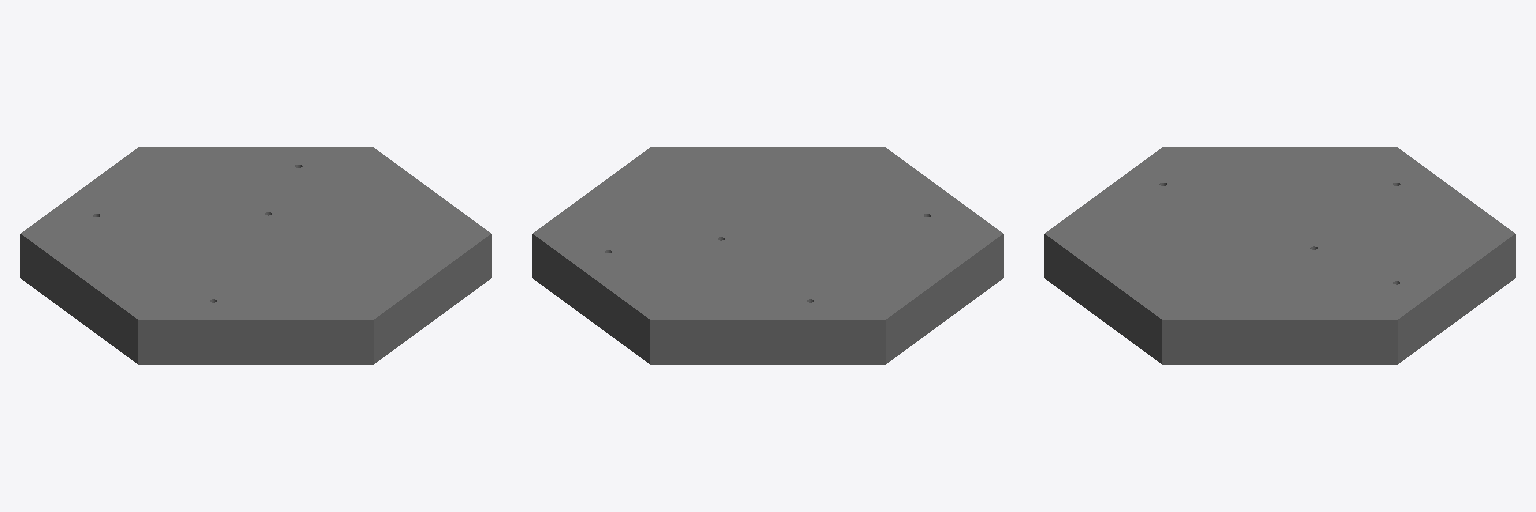
URDF robot description (push_object):
<?xml version="1.0" ?>
<robot name="push_object">
  <link name="link_x">
    <inertial>
      <mass value="0"/>
      <inertia ixx="1.0" ixy="0.0" ixz="0.0" iyy="1.0" iyz="0.0" izz="1.0"/>
    </inertial>
  </link>

  <link name="link_y">
    <inertial>
      <mass value="0"/>
      <inertia ixx="1.0" ixy="0.0" ixz="0.0" iyy="1.0" iyz="0.0" izz="1.0"/>
    </inertial>
  </link>
  
  <link name="link_z">
    <inertial>
      <mass value="0"/>
      <inertia ixx="1.0" ixy="0.0" ixz="0.0" iyy="1.0" iyz="0.0" izz="1.0"/>
    </inertial>
  </link>
  
  <link name="link_yaw">
    <inertial>
      <mass value="0"/>
      <inertia ixx="1.0" ixy="0.0" ixz="0.0" iyy="1.0" iyz="0.0" izz="1.0"/>
    </inertial>
  </link>

  <link name="link_object">
    <contact>
      <rolling_friction value="0.03"/>
      <spinning_friction value="0.03"/>
    </contact>

    <inertial>
      <origin rpy="0 0 0" xyz="0 0 0"/>
       <mass value="0.006350"/>
       <inertia ixx="1" ixy="0" ixz="0" iyy="1" iyz="0" izz="0.983000"/>
    </inertial>
    <visual>
      <origin rpy="0 0 0" xyz="0 0 0.001500"/>
      <geometry>
        <mesh filename="hex.obj" scale="1.0 1.0 1.0"/>      
      </geometry>
      <material name="gray">
        <color rgba="0.5 0.5 0.5 1"/>
        <specular rgb="1 1 1"/>
      </material>
    </visual>
    
    <collision>
      <origin rpy="0 0 0" xyz="-0.0500 -0.0300 -0.0063"/>
      <geometry>
        <sphere radius="0.0065"/>
      </geometry>
    </collision>
        
    <collision>
      <origin rpy="0 0 0" xyz="-0.0500 -0.0200 -0.0063"/>
      <geometry>
        <sphere radius="0.0065"/>
      </geometry>
    </collision>
        
    <collision>
      <origin rpy="0 0 0" xyz="-0.0500 -0.0100 -0.0063"/>
      <geometry>
        <sphere radius="0.0065"/>
      </geometry>
    </collision>
        
    <collision>
      <origin rpy="0 0 0" xyz="-0.0500 -0.0000 -0.0063"/>
      <geometry>
        <sphere radius="0.0065"/>
      </geometry>
    </collision>
        
    <collision>
      <origin rpy="0 0 0" xyz="-0.0500 0.0100 -0.0063"/>
      <geometry>
        <sphere radius="0.0065"/>
      </geometry>
    </collision>
        
    <collision>
      <origin rpy="0 0 0" xyz="-0.0500 0.0200 -0.0063"/>
      <geometry>
        <sphere radius="0.0065"/>
      </geometry>
    </collision>
        
    <collision>
      <origin rpy="0 0 0" xyz="-0.0500 0.0300 -0.0063"/>
      <geometry>
        <sphere radius="0.0065"/>
      </geometry>
    </collision>
        
    <collision>
      <origin rpy="0 0 0" xyz="-0.0400 -0.0300 -0.0063"/>
      <geometry>
        <sphere radius="0.0065"/>
      </geometry>
    </collision>
        
    <collision>
      <origin rpy="0 0 0" xyz="-0.0400 -0.0200 -0.0063"/>
      <geometry>
        <sphere radius="0.0065"/>
      </geometry>
    </collision>
        
    <collision>
      <origin rpy="0 0 0" xyz="-0.0400 -0.0100 -0.0063"/>
      <geometry>
        <sphere radius="0.0065"/>
      </geometry>
    </collision>
        
    <collision>
      <origin rpy="0 0 0" xyz="-0.0400 -0.0000 -0.0063"/>
      <geometry>
        <sphere radius="0.0065"/>
      </geometry>
    </collision>
        
    <collision>
      <origin rpy="0 0 0" xyz="-0.0400 0.0100 -0.0063"/>
      <geometry>
        <sphere radius="0.0065"/>
      </geometry>
    </collision>
        
    <collision>
      <origin rpy="0 0 0" xyz="-0.0400 0.0200 -0.0063"/>
      <geometry>
        <sphere radius="0.0065"/>
      </geometry>
    </collision>
        
    <collision>
      <origin rpy="0 0 0" xyz="-0.0400 0.0300 -0.0063"/>
      <geometry>
        <sphere radius="0.0065"/>
      </geometry>
    </collision>
        
    <collision>
      <origin rpy="0 0 0" xyz="-0.0300 -0.0400 -0.0063"/>
      <geometry>
        <sphere radius="0.0065"/>
      </geometry>
    </collision>
        
    <collision>
      <origin rpy="0 0 0" xyz="-0.0300 -0.0300 -0.0063"/>
      <geometry>
        <sphere radius="0.0065"/>
      </geometry>
    </collision>
        
    <collision>
      <origin rpy="0 0 0" xyz="-0.0300 -0.0200 -0.0063"/>
      <geometry>
        <sphere radius="0.0065"/>
      </geometry>
    </collision>
        
    <collision>
      <origin rpy="0 0 0" xyz="-0.0300 -0.0100 -0.0063"/>
      <geometry>
        <sphere radius="0.0065"/>
      </geometry>
    </collision>
        
    <collision>
      <origin rpy="0 0 0" xyz="-0.0300 -0.0000 -0.0063"/>
      <geometry>
        <sphere radius="0.0065"/>
      </geometry>
    </collision>
        
    <collision>
      <origin rpy="0 0 0" xyz="-0.0300 0.0100 -0.0063"/>
      <geometry>
        <sphere radius="0.0065"/>
      </geometry>
    </collision>
        
    <collision>
      <origin rpy="0 0 0" xyz="-0.0300 0.0200 -0.0063"/>
      <geometry>
        <sphere radius="0.0065"/>
      </geometry>
    </collision>
        
    <collision>
      <origin rpy="0 0 0" xyz="-0.0300 0.0300 -0.0063"/>
      <geometry>
        <sphere radius="0.0065"/>
      </geometry>
    </collision>
        
    <collision>
      <origin rpy="0 0 0" xyz="-0.0300 0.0400 -0.0063"/>
      <geometry>
        <sphere radius="0.0065"/>
      </geometry>
    </collision>
        
    <collision>
      <origin rpy="0 0 0" xyz="-0.0200 -0.0400 -0.0063"/>
      <geometry>
        <sphere radius="0.0065"/>
      </geometry>
    </collision>
        
    <collision>
      <origin rpy="0 0 0" xyz="-0.0200 -0.0300 -0.0063"/>
      <geometry>
        <sphere radius="0.0065"/>
      </geometry>
    </collision>
        
    <collision>
      <origin rpy="0 0 0" xyz="-0.0200 -0.0200 -0.0063"/>
      <geometry>
        <sphere radius="0.0065"/>
      </geometry>
    </collision>
        
    <collision>
      <origin rpy="0 0 0" xyz="-0.0200 -0.0100 -0.0063"/>
      <geometry>
        <sphere radius="0.0065"/>
      </geometry>
    </collision>
        
    <collision>
      <origin rpy="0 0 0" xyz="-0.0200 -0.0000 -0.0063"/>
      <geometry>
        <sphere radius="0.0065"/>
      </geometry>
    </collision>
        
    <collision>
      <origin rpy="0 0 0" xyz="-0.0200 0.0100 -0.0063"/>
      <geometry>
        <sphere radius="0.0065"/>
      </geometry>
    </collision>
        
    <collision>
      <origin rpy="0 0 0" xyz="-0.0200 0.0200 -0.0063"/>
      <geometry>
        <sphere radius="0.0065"/>
      </geometry>
    </collision>
        
    <collision>
      <origin rpy="0 0 0" xyz="-0.0200 0.0300 -0.0063"/>
      <geometry>
        <sphere radius="0.0065"/>
      </geometry>
    </collision>
        
    <collision>
      <origin rpy="0 0 0" xyz="-0.0200 0.0400 -0.0063"/>
      <geometry>
        <sphere radius="0.0065"/>
      </geometry>
    </collision>
        
    <collision>
      <origin rpy="0 0 0" xyz="-0.0100 -0.0500 -0.0063"/>
      <geometry>
        <sphere radius="0.0065"/>
      </geometry>
    </collision>
        
    <collision>
      <origin rpy="0 0 0" xyz="-0.0100 -0.0400 -0.0063"/>
      <geometry>
        <sphere radius="0.0065"/>
      </geometry>
    </collision>
        
    <collision>
      <origin rpy="0 0 0" xyz="-0.0100 -0.0300 -0.0063"/>
      <geometry>
        <sphere radius="0.0065"/>
      </geometry>
    </collision>
        
    <collision>
      <origin rpy="0 0 0" xyz="-0.0100 -0.0200 -0.0063"/>
      <geometry>
        <sphere radius="0.0065"/>
      </geometry>
    </collision>
        
    <collision>
      <origin rpy="0 0 0" xyz="-0.0100 -0.0100 -0.0063"/>
      <geometry>
        <sphere radius="0.0065"/>
      </geometry>
    </collision>
        
    <collision>
      <origin rpy="0 0 0" xyz="-0.0100 -0.0000 -0.0063"/>
      <geometry>
        <sphere radius="0.0065"/>
      </geometry>
    </collision>
        
    <collision>
      <origin rpy="0 0 0" xyz="-0.0100 0.0100 -0.0063"/>
      <geometry>
        <sphere radius="0.0065"/>
      </geometry>
    </collision>
        
    <collision>
      <origin rpy="0 0 0" xyz="-0.0100 0.0200 -0.0063"/>
      <geometry>
        <sphere radius="0.0065"/>
      </geometry>
    </collision>
        
    <collision>
      <origin rpy="0 0 0" xyz="-0.0100 0.0300 -0.0063"/>
      <geometry>
        <sphere radius="0.0065"/>
      </geometry>
    </collision>
        
    <collision>
      <origin rpy="0 0 0" xyz="-0.0100 0.0400 -0.0063"/>
      <geometry>
        <sphere radius="0.0065"/>
      </geometry>
    </collision>
        
    <collision>
      <origin rpy="0 0 0" xyz="-0.0100 0.0500 -0.0063"/>
      <geometry>
        <sphere radius="0.0065"/>
      </geometry>
    </collision>
        
    <collision>
      <origin rpy="0 0 0" xyz="0.0000 -0.0600 -0.0063"/>
      <geometry>
        <sphere radius="0.0065"/>
      </geometry>
    </collision>
        
    <collision>
      <origin rpy="0 0 0" xyz="0.0000 -0.0500 -0.0063"/>
      <geometry>
        <sphere radius="0.0065"/>
      </geometry>
    </collision>
        
    <collision>
      <origin rpy="0 0 0" xyz="0.0000 -0.0400 -0.0063"/>
      <geometry>
        <sphere radius="0.0065"/>
      </geometry>
    </collision>
        
    <collision>
      <origin rpy="0 0 0" xyz="0.0000 -0.0300 -0.0063"/>
      <geometry>
        <sphere radius="0.0065"/>
      </geometry>
    </collision>
        
    <collision>
      <origin rpy="0 0 0" xyz="0.0000 -0.0200 -0.0063"/>
      <geometry>
        <sphere radius="0.0065"/>
      </geometry>
    </collision>
        
    <collision>
      <origin rpy="0 0 0" xyz="0.0000 -0.0100 -0.0063"/>
      <geometry>
        <sphere radius="0.0065"/>
      </geometry>
    </collision>
        
    <collision>
      <origin rpy="0 0 0" xyz="0.0000 -0.0000 -0.0063"/>
      <geometry>
        <sphere radius="0.0065"/>
      </geometry>
    </collision>
        
    <collision>
      <origin rpy="0 0 0" xyz="0.0000 0.0100 -0.0063"/>
      <geometry>
        <sphere radius="0.0065"/>
      </geometry>
    </collision>
        
    <collision>
      <origin rpy="0 0 0" xyz="0.0000 0.0200 -0.0063"/>
      <geometry>
        <sphere radius="0.0065"/>
      </geometry>
    </collision>
        
    <collision>
      <origin rpy="0 0 0" xyz="0.0000 0.0300 -0.0063"/>
      <geometry>
        <sphere radius="0.0065"/>
      </geometry>
    </collision>
        
    <collision>
      <origin rpy="0 0 0" xyz="0.0000 0.0400 -0.0063"/>
      <geometry>
        <sphere radius="0.0065"/>
      </geometry>
    </collision>
        
    <collision>
      <origin rpy="0 0 0" xyz="0.0000 0.0500 -0.0063"/>
      <geometry>
        <sphere radius="0.0065"/>
      </geometry>
    </collision>
        
    <collision>
      <origin rpy="0 0 0" xyz="0.0000 0.0600 -0.0063"/>
      <geometry>
        <sphere radius="0.0065"/>
      </geometry>
    </collision>
        
    <collision>
      <origin rpy="0 0 0" xyz="0.0100 -0.0500 -0.0063"/>
      <geometry>
        <sphere radius="0.0065"/>
      </geometry>
    </collision>
        
    <collision>
      <origin rpy="0 0 0" xyz="0.0100 -0.0400 -0.0063"/>
      <geometry>
        <sphere radius="0.0065"/>
      </geometry>
    </collision>
        
    <collision>
      <origin rpy="0 0 0" xyz="0.0100 -0.0300 -0.0063"/>
      <geometry>
        <sphere radius="0.0065"/>
      </geometry>
    </collision>
        
    <collision>
      <origin rpy="0 0 0" xyz="0.0100 -0.0200 -0.0063"/>
      <geometry>
        <sphere radius="0.0065"/>
      </geometry>
    </collision>
        
    <collision>
      <origin rpy="0 0 0" xyz="0.0100 -0.0100 -0.0063"/>
      <geometry>
        <sphere radius="0.0065"/>
      </geometry>
    </collision>
        
    <collision>
      <origin rpy="0 0 0" xyz="0.0100 -0.0000 -0.0063"/>
      <geometry>
        <sphere radius="0.0065"/>
      </geometry>
    </collision>
        
    <collision>
      <origin rpy="0 0 0" xyz="0.0100 0.0100 -0.0063"/>
      <geometry>
        <sphere radius="0.0065"/>
      </geometry>
    </collision>
        
    <collision>
      <origin rpy="0 0 0" xyz="0.0100 0.0200 -0.0063"/>
      <geometry>
        <sphere radius="0.0065"/>
      </geometry>
    </collision>
        
    <collision>
      <origin rpy="0 0 0" xyz="0.0100 0.0300 -0.0063"/>
      <geometry>
        <sphere radius="0.0065"/>
      </geometry>
    </collision>
        
    <collision>
      <origin rpy="0 0 0" xyz="0.0100 0.0400 -0.0063"/>
      <geometry>
        <sphere radius="0.0065"/>
      </geometry>
    </collision>
        
    <collision>
      <origin rpy="0 0 0" xyz="0.0100 0.0500 -0.0063"/>
      <geometry>
        <sphere radius="0.0065"/>
      </geometry>
    </collision>
        
    <collision>
      <origin rpy="0 0 0" xyz="0.0200 -0.0400 -0.0063"/>
      <geometry>
        <sphere radius="0.0065"/>
      </geometry>
    </collision>
        
    <collision>
      <origin rpy="0 0 0" xyz="0.0200 -0.0300 -0.0063"/>
      <geometry>
        <sphere radius="0.0065"/>
      </geometry>
    </collision>
        
    <collision>
      <origin rpy="0 0 0" xyz="0.0200 -0.0200 -0.0063"/>
      <geometry>
        <sphere radius="0.0065"/>
      </geometry>
    </collision>
        
    <collision>
      <origin rpy="0 0 0" xyz="0.0200 -0.0100 -0.0063"/>
      <geometry>
        <sphere radius="0.0065"/>
      </geometry>
    </collision>
        
    <collision>
      <origin rpy="0 0 0" xyz="0.0200 -0.0000 -0.0063"/>
      <geometry>
        <sphere radius="0.0065"/>
      </geometry>
    </collision>
        
    <collision>
      <origin rpy="0 0 0" xyz="0.0200 0.0100 -0.0063"/>
      <geometry>
        <sphere radius="0.0065"/>
      </geometry>
    </collision>
        
    <collision>
      <origin rpy="0 0 0" xyz="0.0200 0.0200 -0.0063"/>
      <geometry>
        <sphere radius="0.0065"/>
      </geometry>
    </collision>
        
    <collision>
      <origin rpy="0 0 0" xyz="0.0200 0.0300 -0.0063"/>
      <geometry>
        <sphere radius="0.0065"/>
      </geometry>
    </collision>
        
    <collision>
      <origin rpy="0 0 0" xyz="0.0200 0.0400 -0.0063"/>
      <geometry>
        <sphere radius="0.0065"/>
      </geometry>
    </collision>
        
    <collision>
      <origin rpy="0 0 0" xyz="0.0300 -0.0400 -0.0063"/>
      <geometry>
        <sphere radius="0.0065"/>
      </geometry>
    </collision>
        
    <collision>
      <origin rpy="0 0 0" xyz="0.0300 -0.0300 -0.0063"/>
      <geometry>
        <sphere radius="0.0065"/>
      </geometry>
    </collision>
        
    <collision>
      <origin rpy="0 0 0" xyz="0.0300 -0.0200 -0.0063"/>
      <geometry>
        <sphere radius="0.0065"/>
      </geometry>
    </collision>
        
    <collision>
      <origin rpy="0 0 0" xyz="0.0300 -0.0100 -0.0063"/>
      <geometry>
        <sphere radius="0.0065"/>
      </geometry>
    </collision>
        
    <collision>
      <origin rpy="0 0 0" xyz="0.0300 -0.0000 -0.0063"/>
      <geometry>
        <sphere radius="0.0065"/>
      </geometry>
    </collision>
        
    <collision>
      <origin rpy="0 0 0" xyz="0.0300 0.0100 -0.0063"/>
      <geometry>
        <sphere radius="0.0065"/>
      </geometry>
    </collision>
        
    <collision>
      <origin rpy="0 0 0" xyz="0.0300 0.0200 -0.0063"/>
      <geometry>
        <sphere radius="0.0065"/>
      </geometry>
    </collision>
        
    <collision>
      <origin rpy="0 0 0" xyz="0.0300 0.0300 -0.0063"/>
      <geometry>
        <sphere radius="0.0065"/>
      </geometry>
    </collision>
        
    <collision>
      <origin rpy="0 0 0" xyz="0.0300 0.0400 -0.0063"/>
      <geometry>
        <sphere radius="0.0065"/>
      </geometry>
    </collision>
        
    <collision>
      <origin rpy="0 0 0" xyz="0.0400 -0.0300 -0.0063"/>
      <geometry>
        <sphere radius="0.0065"/>
      </geometry>
    </collision>
        
    <collision>
      <origin rpy="0 0 0" xyz="0.0400 -0.0200 -0.0063"/>
      <geometry>
        <sphere radius="0.0065"/>
      </geometry>
    </collision>
        
    <collision>
      <origin rpy="0 0 0" xyz="0.0400 -0.0100 -0.0063"/>
      <geometry>
        <sphere radius="0.0065"/>
      </geometry>
    </collision>
        
    <collision>
      <origin rpy="0 0 0" xyz="0.0400 -0.0000 -0.0063"/>
      <geometry>
        <sphere radius="0.0065"/>
      </geometry>
    </collision>
        
    <collision>
      <origin rpy="0 0 0" xyz="0.0400 0.0100 -0.0063"/>
      <geometry>
        <sphere radius="0.0065"/>
      </geometry>
    </collision>
        
    <collision>
      <origin rpy="0 0 0" xyz="0.0400 0.0200 -0.0063"/>
      <geometry>
        <sphere radius="0.0065"/>
      </geometry>
    </collision>
        
    <collision>
      <origin rpy="0 0 0" xyz="0.0400 0.0300 -0.0063"/>
      <geometry>
        <sphere radius="0.0065"/>
      </geometry>
    </collision>
        
    <collision>
      <origin rpy="0 0 0" xyz="0.0500 -0.0300 -0.0063"/>
      <geometry>
        <sphere radius="0.0065"/>
      </geometry>
    </collision>
        
    <collision>
      <origin rpy="0 0 0" xyz="0.0500 -0.0200 -0.0063"/>
      <geometry>
        <sphere radius="0.0065"/>
      </geometry>
    </collision>
        
    <collision>
      <origin rpy="0 0 0" xyz="0.0500 -0.0100 -0.0063"/>
      <geometry>
        <sphere radius="0.0065"/>
      </geometry>
    </collision>
        
    <collision>
      <origin rpy="0 0 0" xyz="0.0500 -0.0000 -0.0063"/>
      <geometry>
        <sphere radius="0.0065"/>
      </geometry>
    </collision>
        
    <collision>
      <origin rpy="0 0 0" xyz="0.0500 0.0100 -0.0063"/>
      <geometry>
        <sphere radius="0.0065"/>
      </geometry>
    </collision>
        
    <collision>
      <origin rpy="0 0 0" xyz="0.0500 0.0200 -0.0063"/>
      <geometry>
        <sphere radius="0.0065"/>
      </geometry>
    </collision>
        
    <collision>
      <origin rpy="0 0 0" xyz="0.0500 0.0300 -0.0063"/>
      <geometry>
        <sphere radius="0.0065"/>
      </geometry>
    </collision>
        
  </link>
  
  <joint name="joint_x" type="prismatic">
    <axis xyz="1 0 0"/>
    <origin xyz="0.0 0.0 0"/>
    <parent link="link_x"/>
    <child link="link_y"/>
    <limit effort="1000.0" lower="-15" upper="15" velocity="5"/>
  </joint>

  <joint name="joint_y" type="prismatic">
    <axis xyz="0 1 0"/>
    <origin xyz="0.0 0.0 0"/>
    <parent link="link_y"/>
    <child link="link_z"/>
    <limit effort="1000.0" lower="-15" upper="15" velocity="5"/>
  </joint>

  <joint name="joint_z" type="prismatic">
    <axis xyz="0 0 1"/>
    <origin xyz="0.0 0.0 0"/>
    <parent link="link_z"/>
    <child link="link_yaw"/>
    <limit effort="1000.0" lower="-15" upper="15" velocity="5"/>
  </joint>

  <joint name="joint_yaw" type="continuous">
    <axis xyz="0 0 1"/>
    <origin xyz="0.0 0.0 0"/>
    <parent link="link_yaw"/>
    <child link="link_object"/>
  </joint>
</robot>

--- Render facts (derived) ---
Views: 3 orthographic renders of the robot side by side, from view 1: azimuth 30°, elevation 25°; view 2: azimuth 150°, elevation 25°; view 3: azimuth 270°, elevation 25°.
Robot: push_object — 5 links, 4 joints (1 continuous, 3 prismatic); root link link_x; default pose: every joint at zero.
Visible links, largest first — view 1: link_object; view 2: link_object; view 3: link_object.
Boxes of the visible links, <box> form: link_object: <box>20,147,491,364</box>; link_object: <box>532,147,1003,364</box>; link_object: <box>1044,147,1515,364</box>.
Size in the robot's own frame: 0.1049 by 0.1211 by 0.0127 metres.
Meshes: 1 distinct files referenced, 1 mesh visuals loaded (1 OBJ).